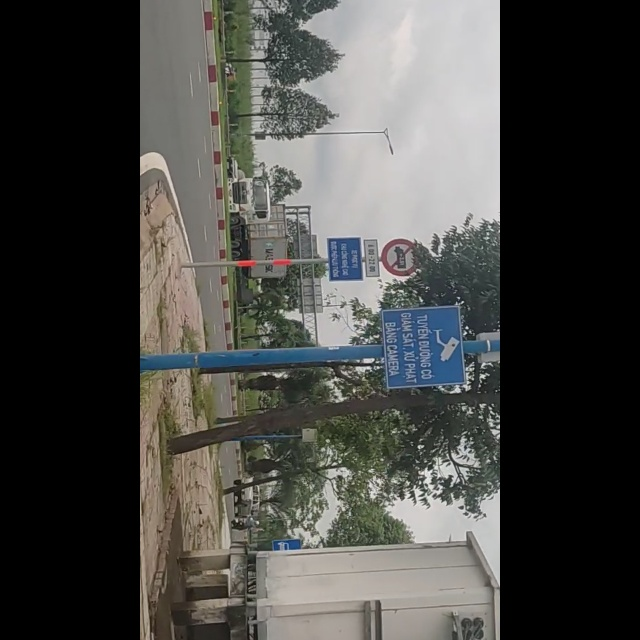bien_cam: (429, 306, 583, 384)
